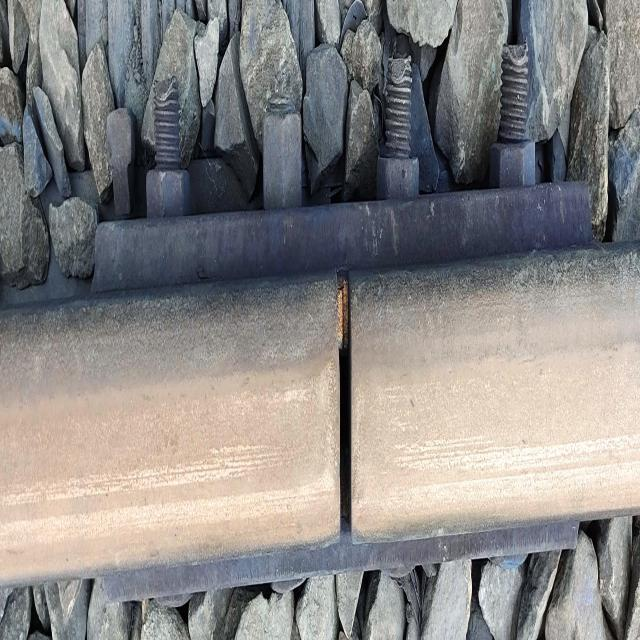Good Joint: (84, 16, 614, 631)
